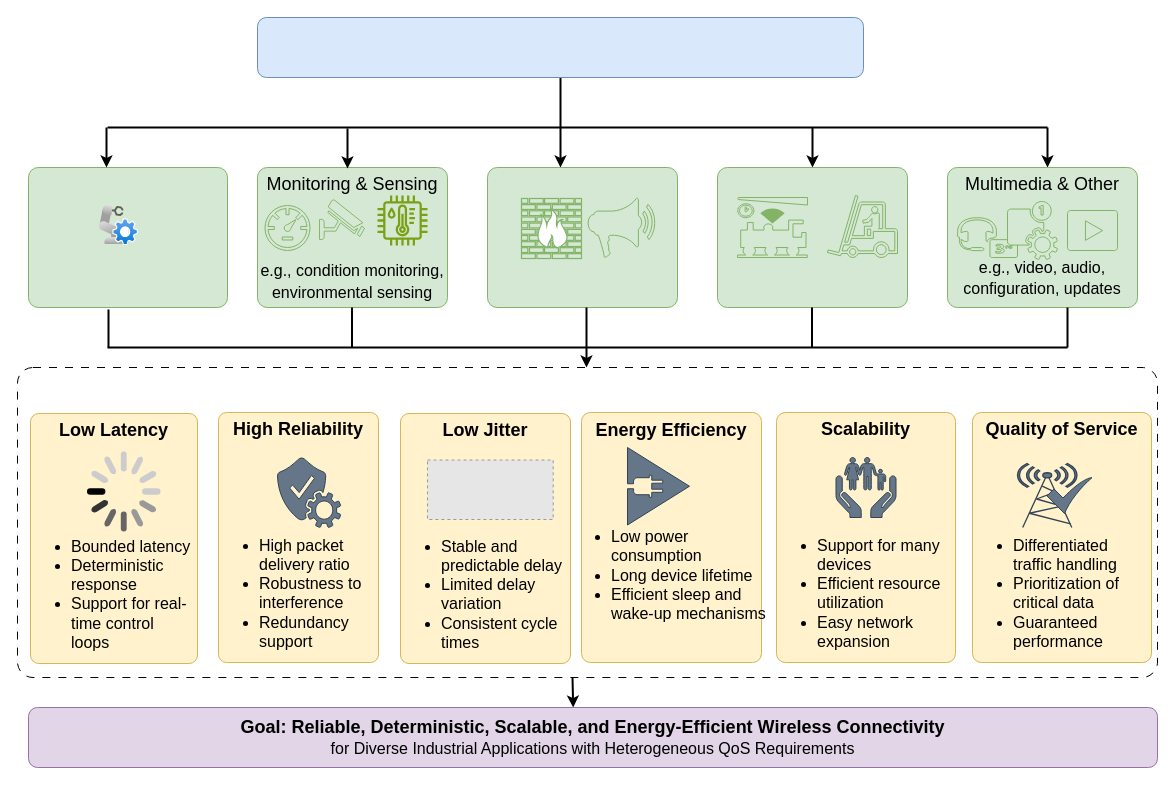
The diagram is 1175 pixels wide and 785 high, and some of its shapes have lost their labels. Grey dashed boxes stand in for pictures. The box of each missing label's shape, as (x1, y1, x2, y2) in pixels:
Control Systems e.g., PLC control, robotics, motion control: (28, 166, 228, 308)
Corresponding Wireless Communication Requirements: (16, 366, 1158, 678)
Industrial Application Industry 4.0 and IIoT: (256, 16, 864, 78)
Mobile & Logistics e.g., AGVs, tracking, inventory, localization: (716, 166, 908, 308)
Safety & Protection e.g., alarms, emergency stop, protection relays: (486, 166, 678, 308)
